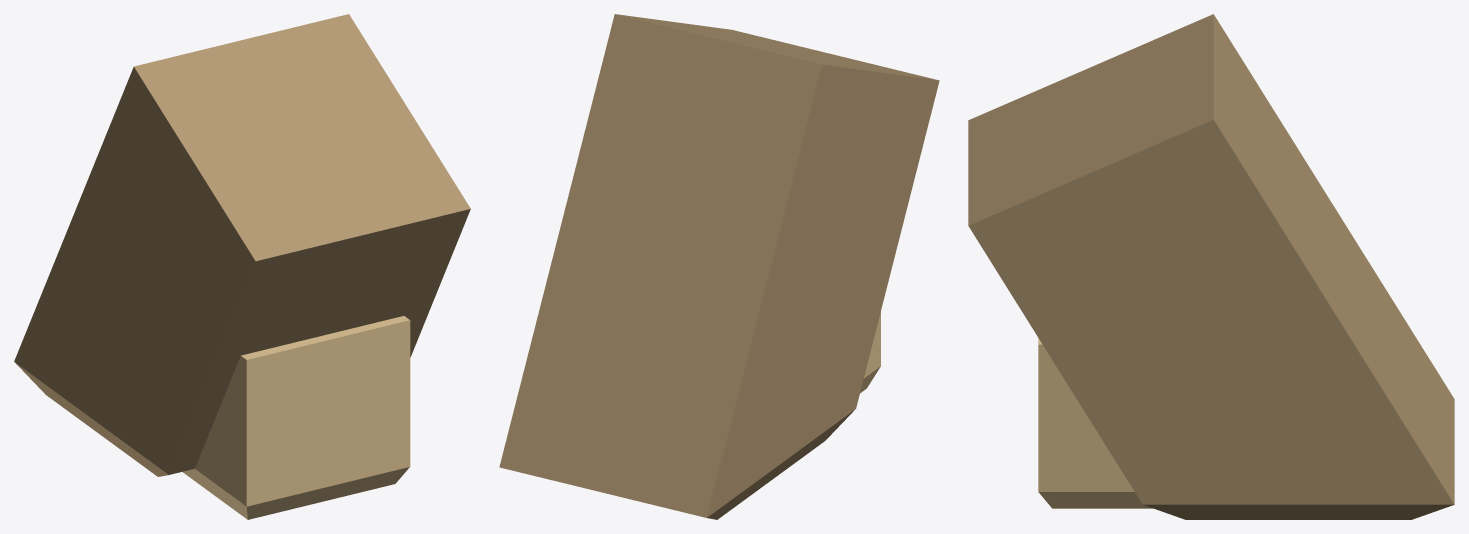
File: Knife_Holder.fbx
The picture shows the model from 3 angles, left to right: view 1: azimuth 30°, elevation 25°; view 2: azimuth 150°, elevation 25°; view 3: azimuth 270°, elevation 25°; orthographic projection. The views are drawn at different scales.
Parts seen in each view (by area): view 1: Knife holder; view 2: Knife holder; view 3: Knife holder.
Boxes of the visible parts, left/top/right/bottom form: Knife holder: left=14, top=14, right=470, bottom=519; Knife holder: left=499, top=14, right=939, bottom=519; Knife holder: left=968, top=14, right=1454, bottom=519.
Size of the model in its own units: 92.22 by 179 by 165.
